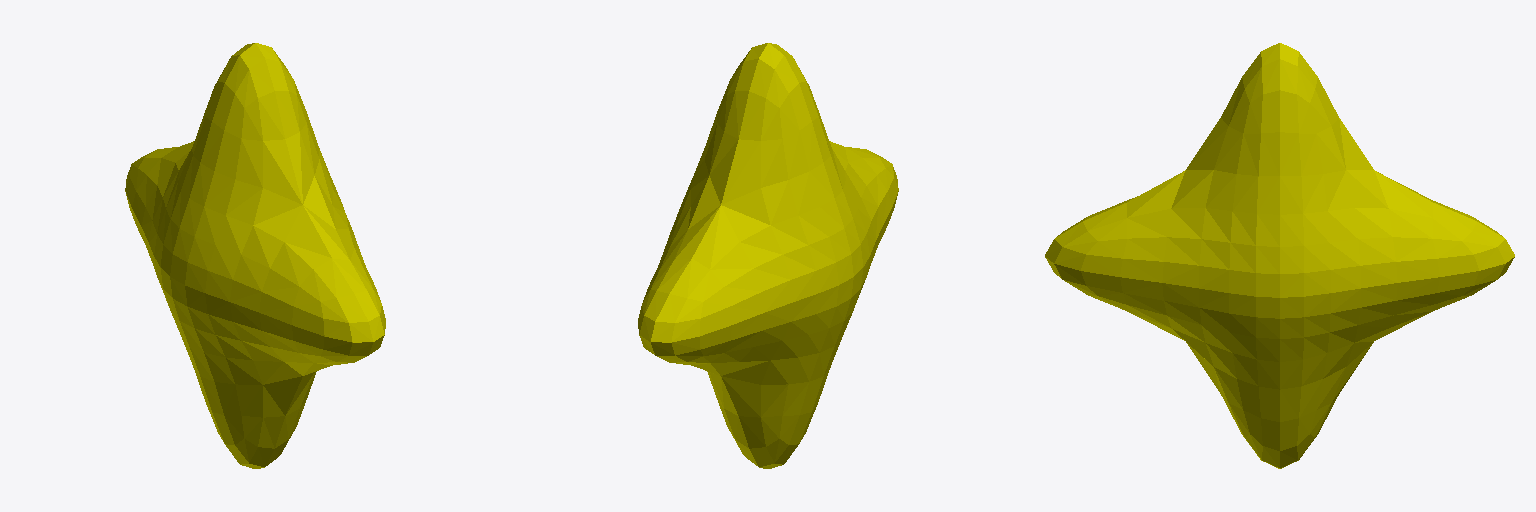
Rendered from calm_star_320.obj.
3 renders of one model, left to right at view 1: azimuth 30°, elevation 25°; view 2: azimuth 150°, elevation 25°; view 3: azimuth 270°, elevation 25°, orthographic.
Visible parts, largest first — view 1: calm_star_320; view 2: calm_star_320; view 3: calm_star_320.
Boxes of the visible parts, x1,y1,x2,y2 form: calm_star_320: [125, 43, 385, 468]; calm_star_320: [638, 43, 898, 468]; calm_star_320: [1045, 43, 1514, 468].
Bounding box in the file's own units: 2.06 × 4.89 × 4.89.